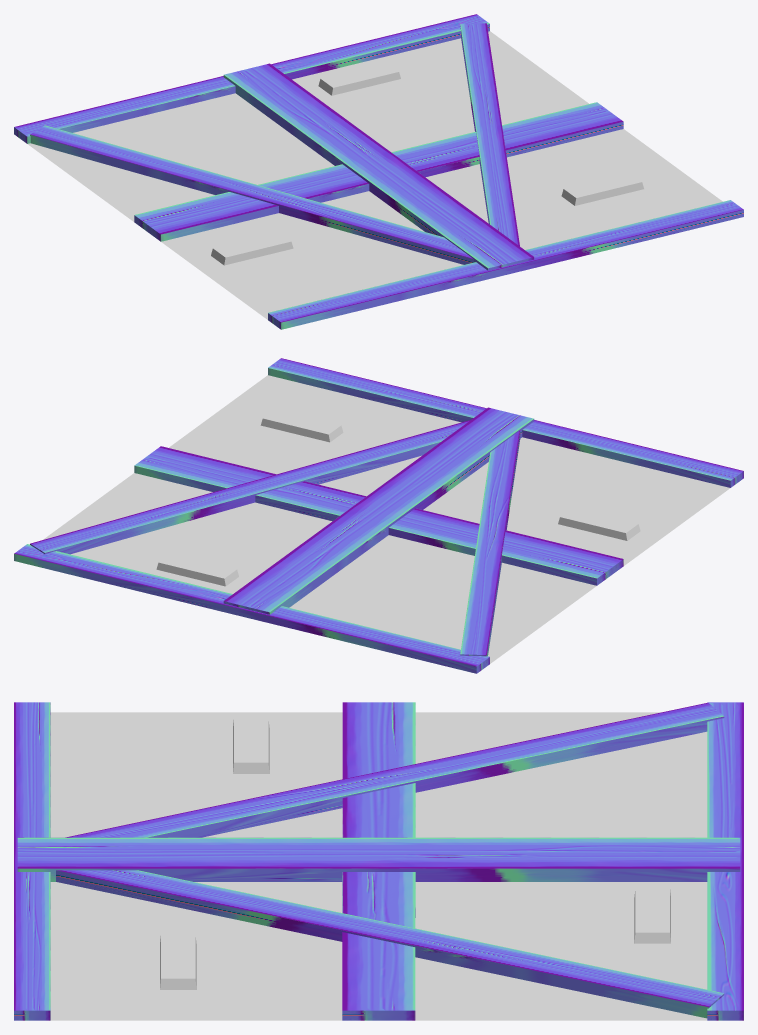
Rendered from SM_Wall_C.fbx.
3 renders of one model, top to bottom at view 1: azimuth 30°, elevation 25°; view 2: azimuth 150°, elevation 25°; view 3: azimuth 270°, elevation 25°, orthographic. The views are drawn at different scales.
Parts seen in each view (by area): view 1: SM_Wall_C; view 2: SM_Wall_C; view 3: SM_Wall_C.
Boxes of the visible parts, box(x1,y1,x2,y2) form: SM_Wall_C: box(14, 14, 743, 329); SM_Wall_C: box(14, 358, 743, 673); SM_Wall_C: box(14, 702, 743, 1020).
Size of the model in its own units: 200 by 4 by 200.
